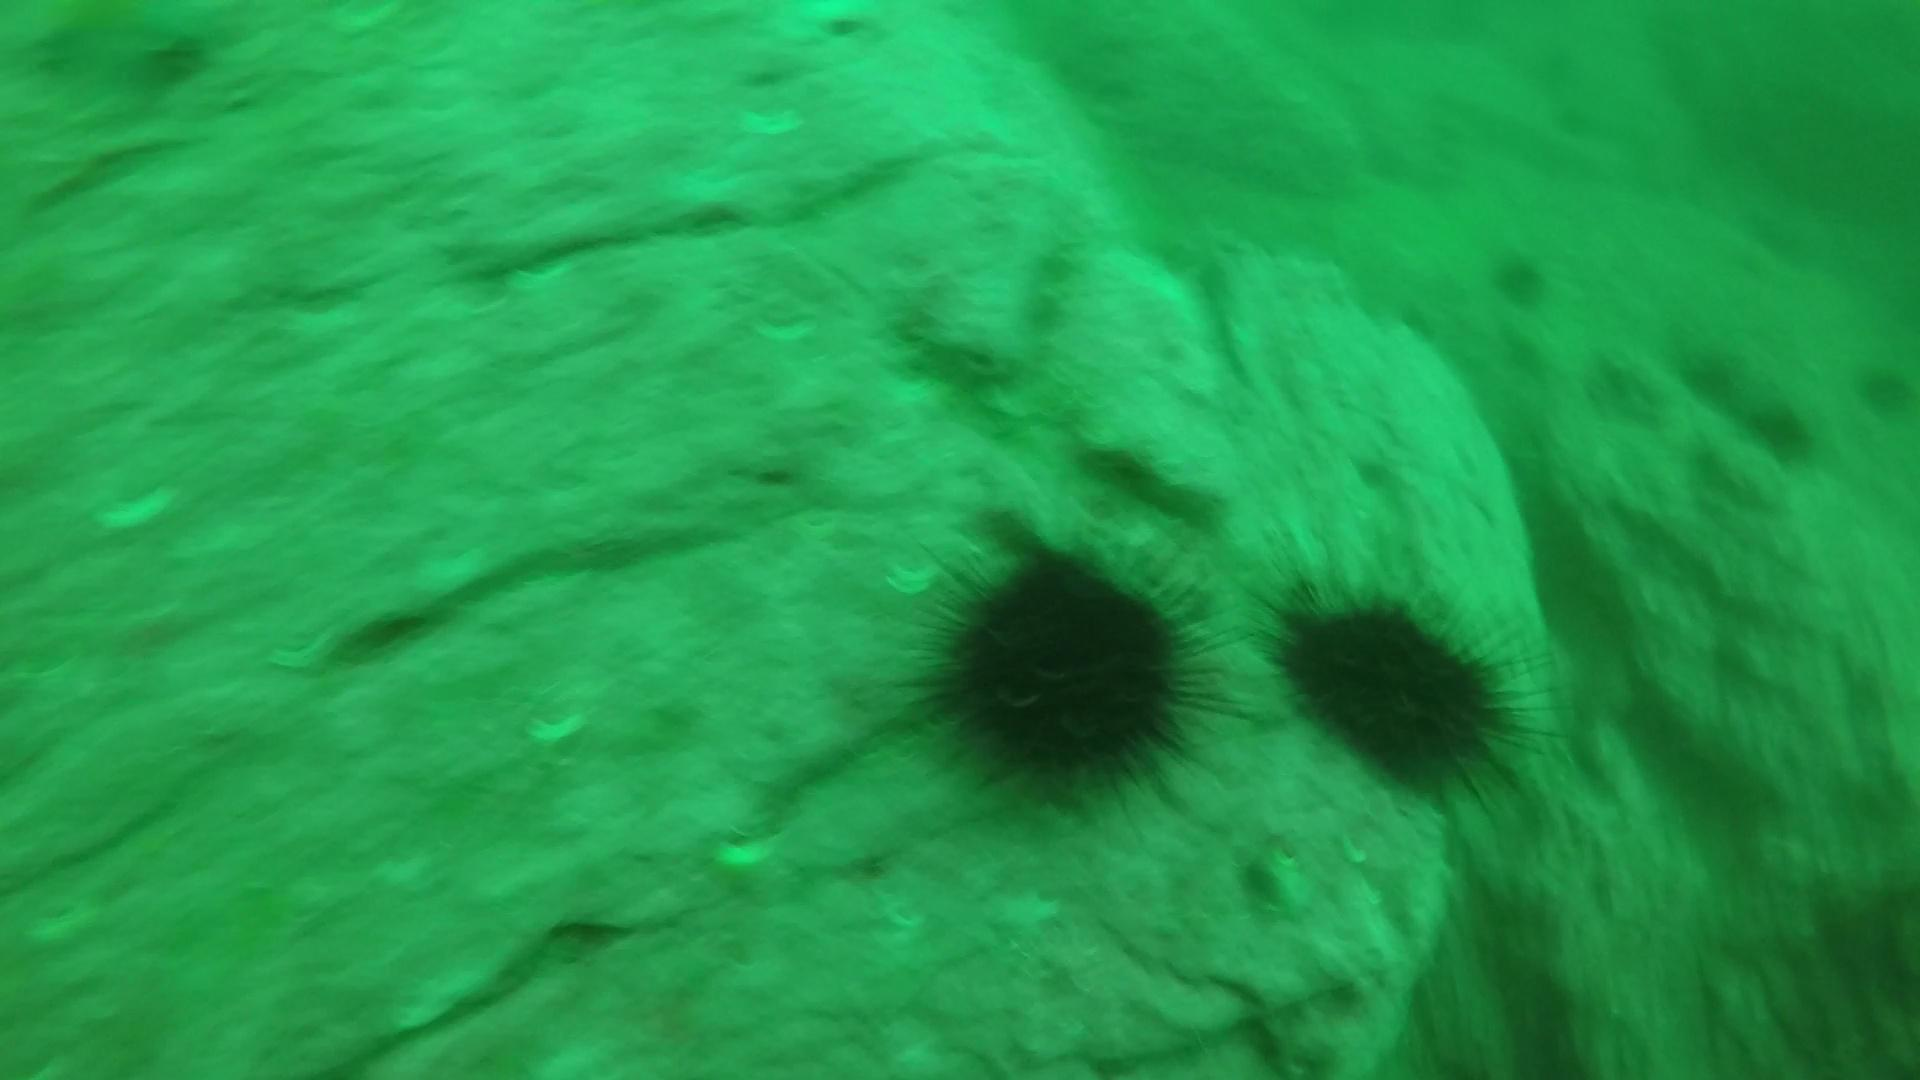urchin: (934, 534, 1216, 807), (1283, 582, 1547, 811), (1742, 393, 1809, 459), (1869, 348, 1919, 419)
